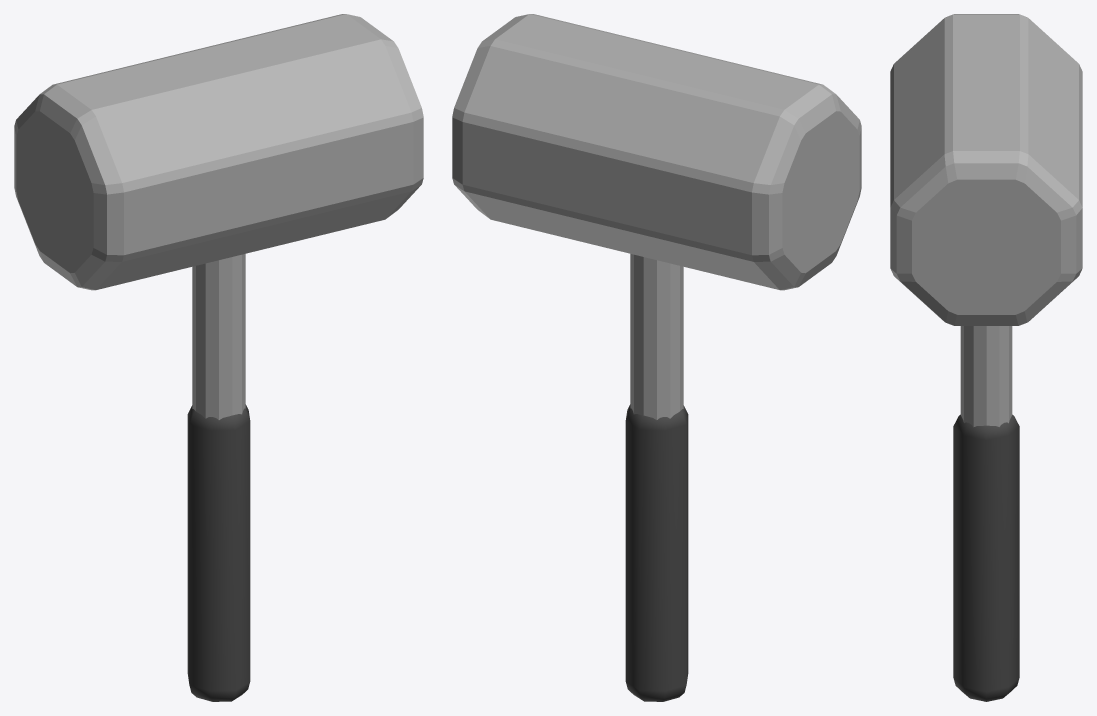
The model's file is Hammer_Lv3.fbx.
The picture shows the model from 3 angles, left to right: view 1: azimuth 30°, elevation 25°; view 2: azimuth 150°, elevation 25°; view 3: azimuth 270°, elevation 25°; orthographic projection. The views are drawn at different scales.
Visible parts, largest first — view 1: pCube1, pCube4, pCylinder1; view 2: pCube1, pCube4, pCylinder1; view 3: pCube1, pCube4, pCylinder1.
Part boxes in pixels (<box>): pCube1: <box>14,14,423,290</box>; pCube4: <box>187,404,250,701</box>; pCylinder1: <box>192,254,245,419</box>; pCube1: <box>452,14,861,290</box>; pCube4: <box>625,404,688,701</box>; pCylinder1: <box>630,254,683,419</box>; pCube1: <box>890,14,1082,325</box>; pCube4: <box>953,414,1019,701</box>; pCylinder1: <box>960,326,1012,427</box>.
Bounding box in the file's own units: 2.79 × 5.13 × 1.46.
